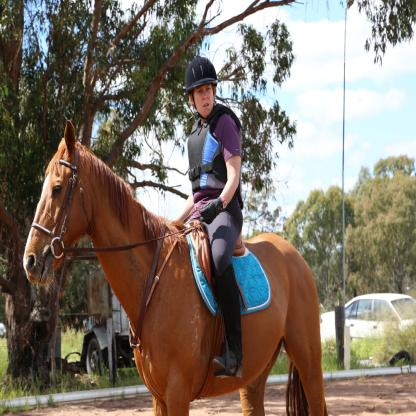Helmet: (186, 57, 219, 121)
